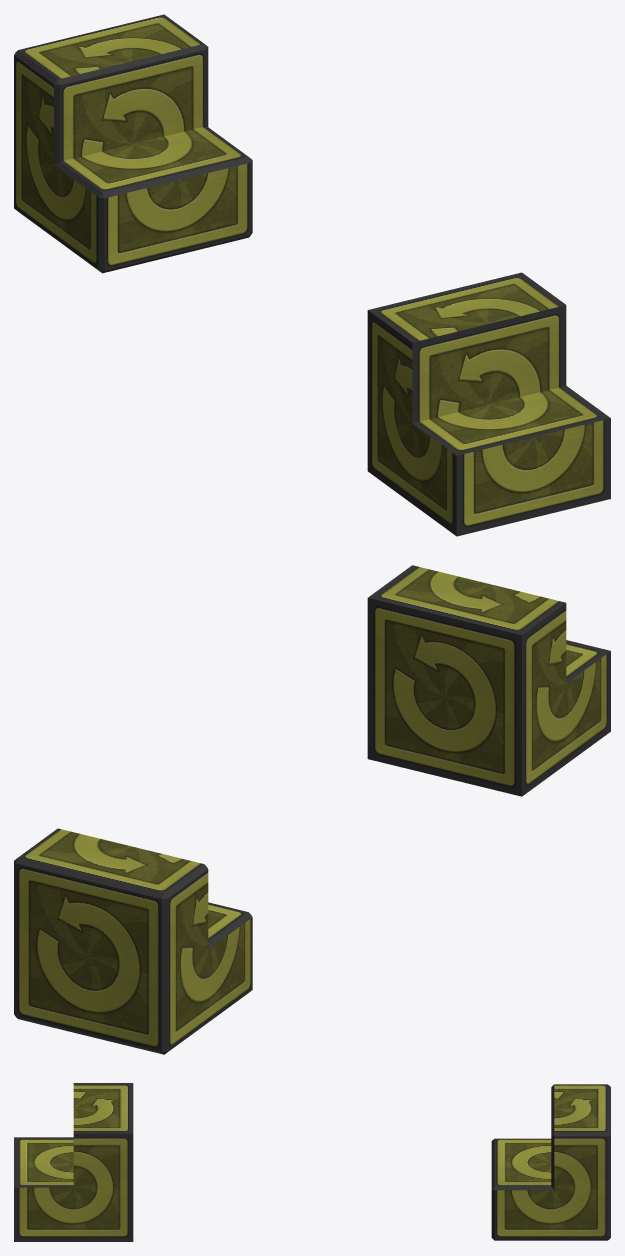
Rendered from step2.fbx.
3 views of the same model, one above another, from view 1: azimuth 30°, elevation 25°; view 2: azimuth 150°, elevation 25°; view 3: azimuth 270°, elevation 25° (orthographic). The views are drawn at different scales.
Visible parts, largest first — view 1: MESH step2, MESH step2.c; view 2: MESH step2, MESH step2.c; view 3: MESH step2, MESH step2.c.
Part boxes in pixels (x1=…): MESH step2: x1=367, y1=272, x2=610, y2=536; MESH step2.c: x1=14, y1=14, x2=252, y2=273; MESH step2: x1=367, y1=565, x2=610, y2=796; MESH step2.c: x1=14, y1=828, x2=252, y2=1054; MESH step2: x1=14, y1=1083, x2=133, y2=1241; MESH step2.c: x1=491, y1=1084, x2=610, y2=1240.
Size of what is drawn, in the model's own units: 100 by 100 by 500.
